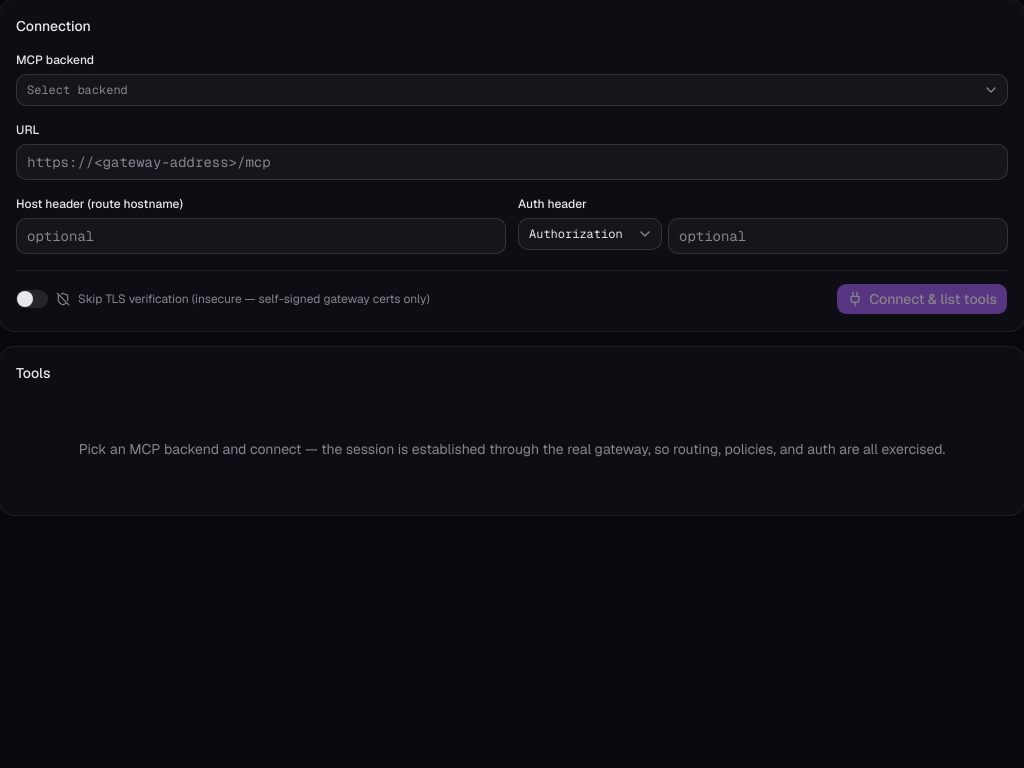
Test: McpPanel › surfaces connection failures from the BFF
This screenshot has width=1024, height=768.
What coordinates should you click on to do the following:
click the dropdown labelled "Select backend"
I would click on:
 (77, 90)
Its box is [16,74,1008,106].
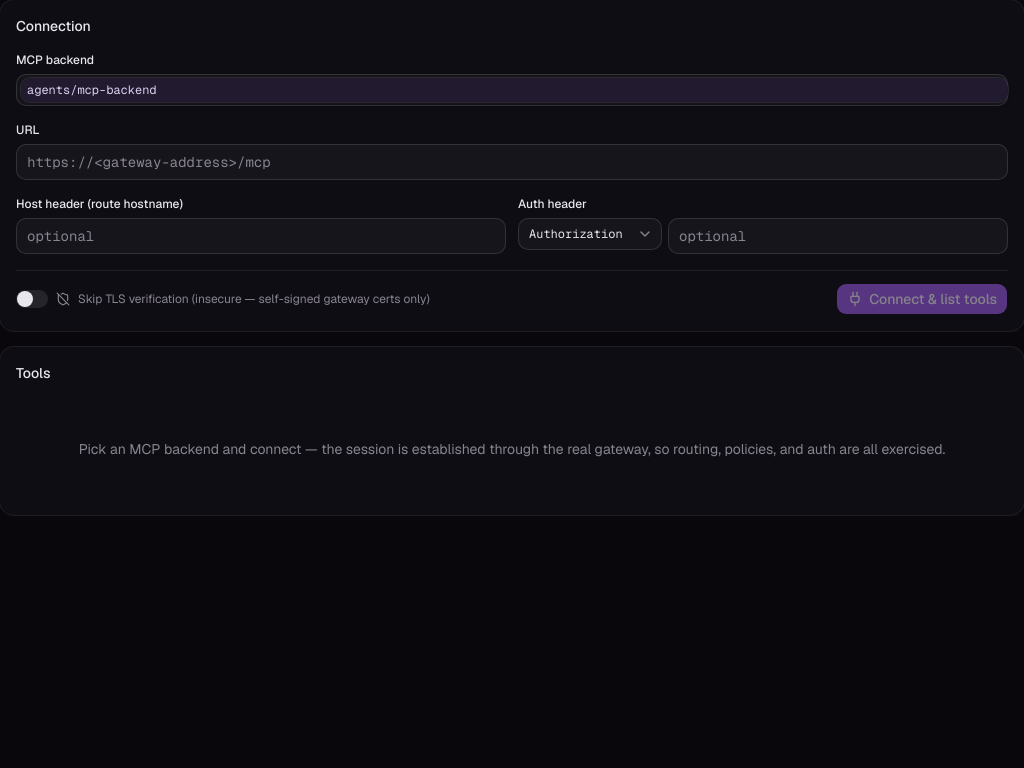
What coordinates should you click on to do the following:
click the option "agents/mcp-backend"
I would click on:
 (49, 90)
Its box is [21,78,1008,102].
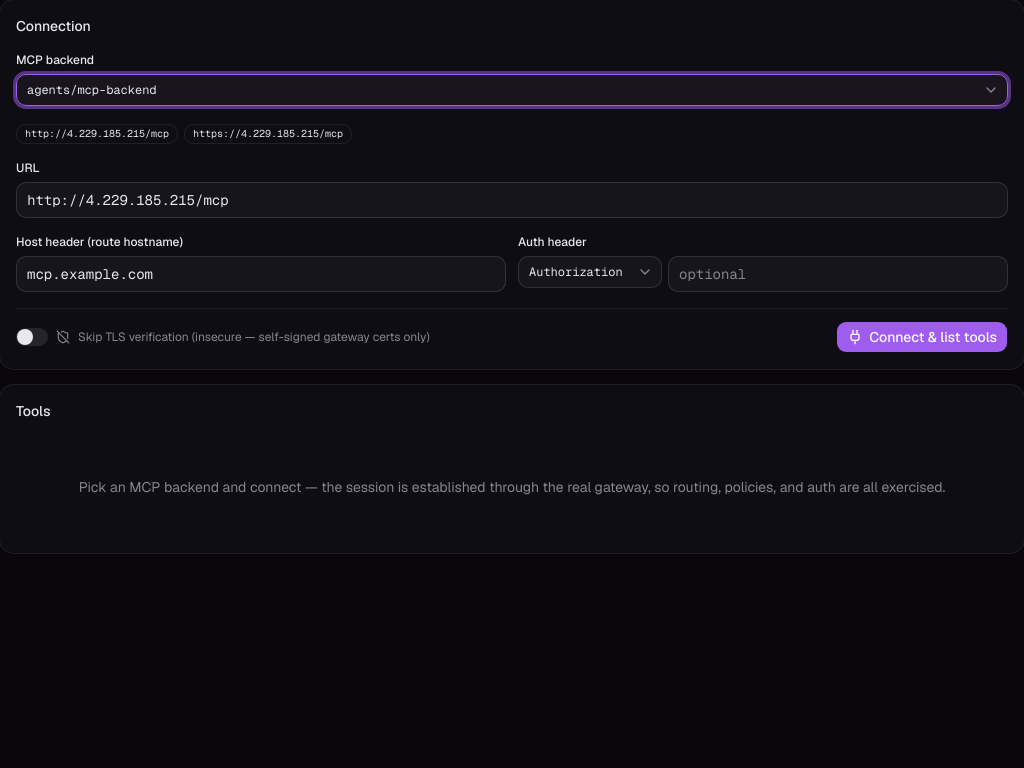
Result: the field showing "http://4.229.185.215/mcp" below "URL" is shown at [16,182,1008,218]
What coordinates should you click on to do the following:
click the button "Connect & list tools"
I would click on:
 (922, 337)
Its box is [836,321,1008,353].
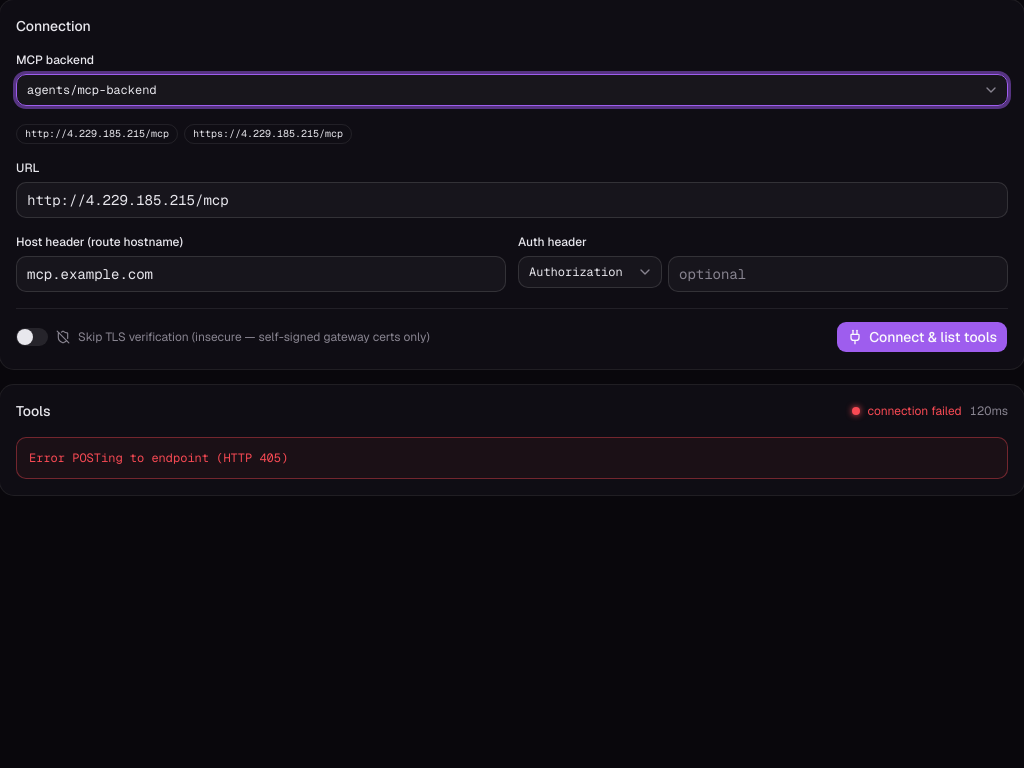
Result: the text "connection failed" is shown at [868,403,962,419]
Result: the text "Error POSTing to endpoint (HTTP 405)" is shown at [16,437,1008,479]
Result: the text "120ms" is shown at [970,403,1008,419]
